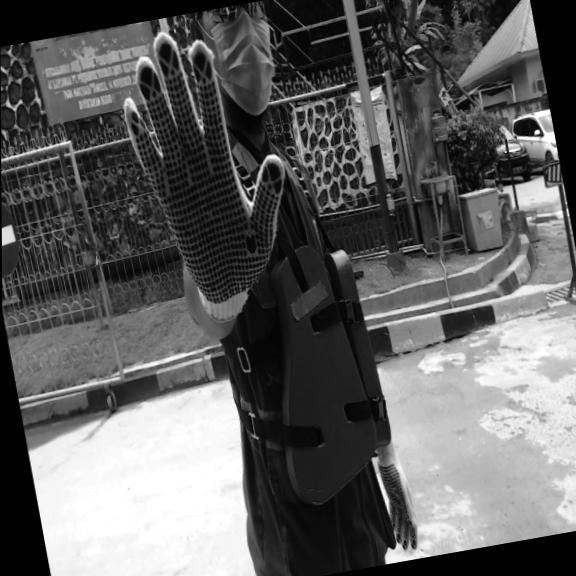safety_vest: (246, 233, 407, 528)
